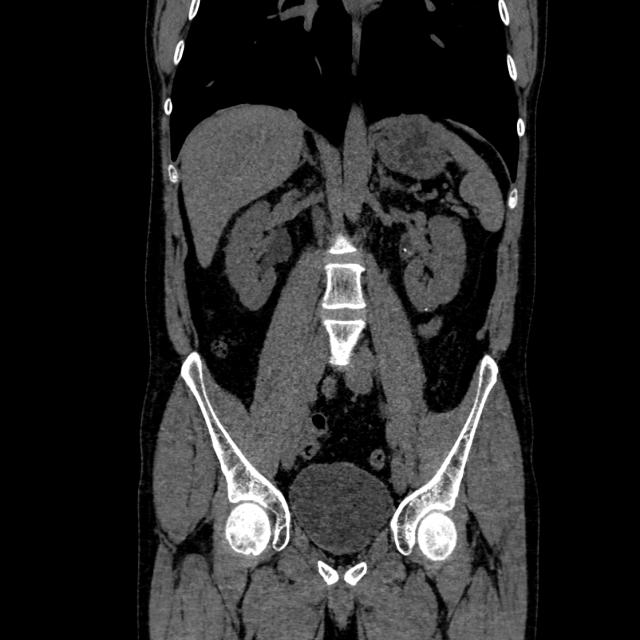kidney: (220, 193, 312, 314), (397, 215, 468, 316)
stone: (402, 244, 409, 254)
